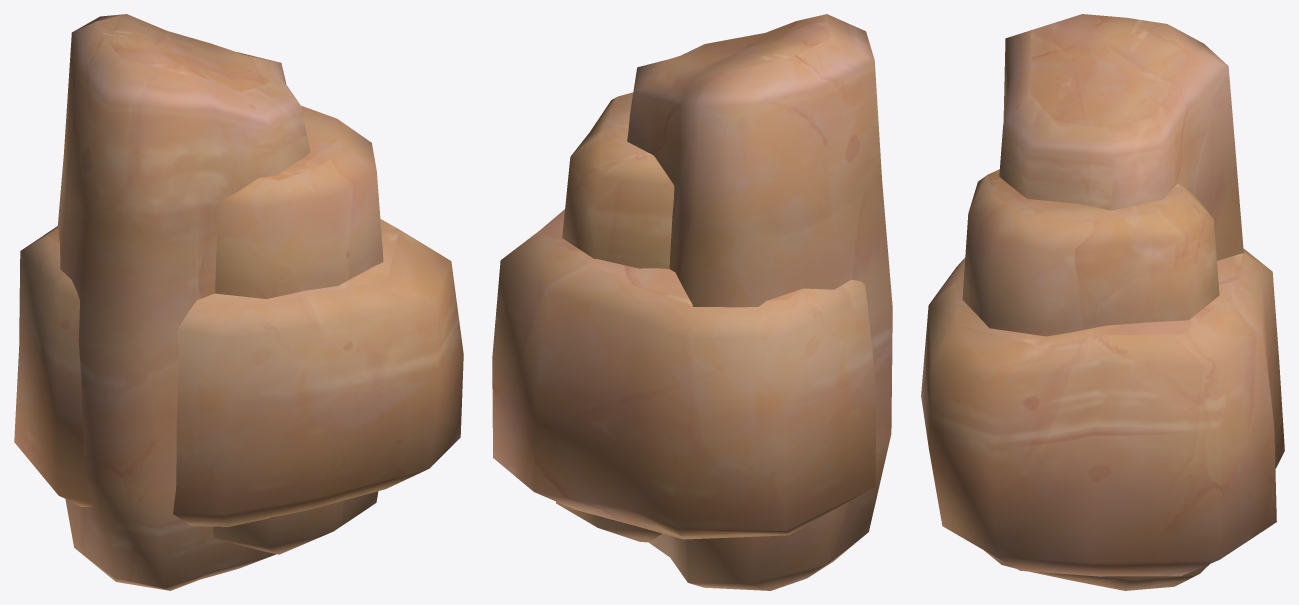
File: SM_RockStack03.fbx
3 views of the same model, side by side, from view 1: azimuth 30°, elevation 25°; view 2: azimuth 150°, elevation 25°; view 3: azimuth 270°, elevation 25° (orthographic). The views are drawn at different scales.
Visible parts, largest first — view 1: SM_RockStack03; view 2: SM_RockStack03; view 3: SM_RockStack03.
Part boxes in pixels (<box>): SM_RockStack03: <box>14,14,463,590</box>; SM_RockStack03: <box>492,14,892,590</box>; SM_RockStack03: <box>921,14,1284,590</box>.
Size of the model in its own units: 509 by 727 by 473.
